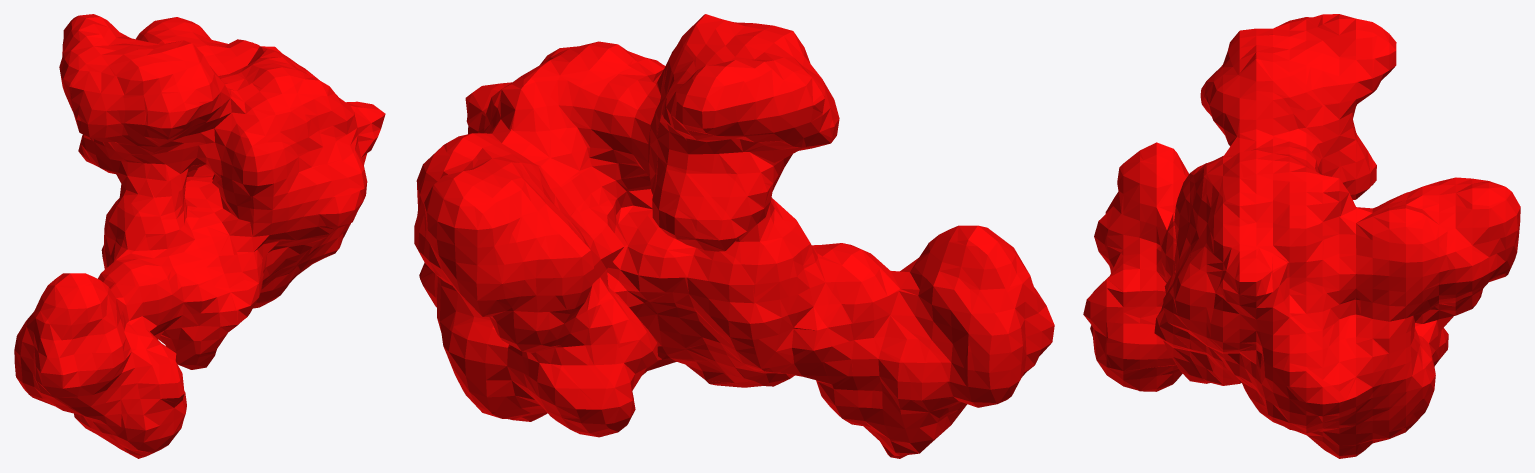
Rendered from uvrA_coarse.dae.
3 renders of one model, left to right at view 1: azimuth 30°, elevation 25°; view 2: azimuth 150°, elevation 25°; view 3: azimuth 270°, elevation 25°, orthographic. The views are drawn at different scales.
Parts seen in each view (by area): view 1: uvrA; view 2: uvrA; view 3: uvrA.
Boxes of the visible parts, bbox=[...] form: uvrA: bbox=[14, 14, 385, 458]; uvrA: bbox=[414, 14, 1054, 458]; uvrA: bbox=[1083, 14, 1520, 458].
Bounding box in the file's own units: 111 × 95.43 × 95.15.
